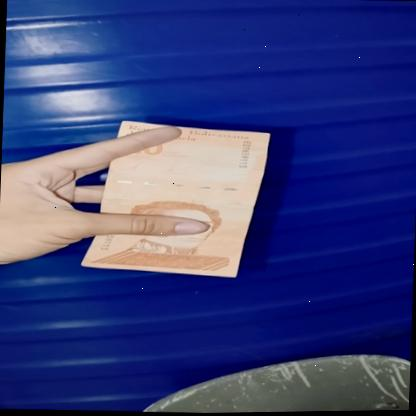twenty-front-vef: (80, 117, 268, 281)
